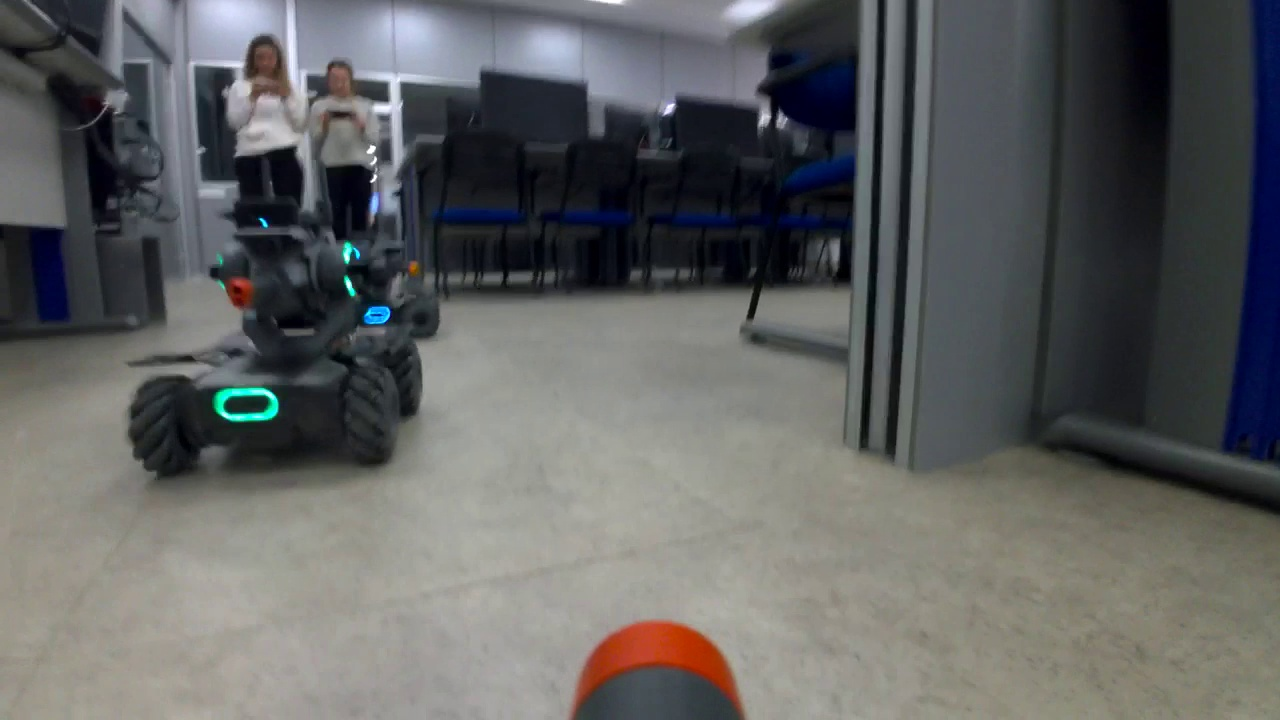robot: (124, 199, 427, 490)
